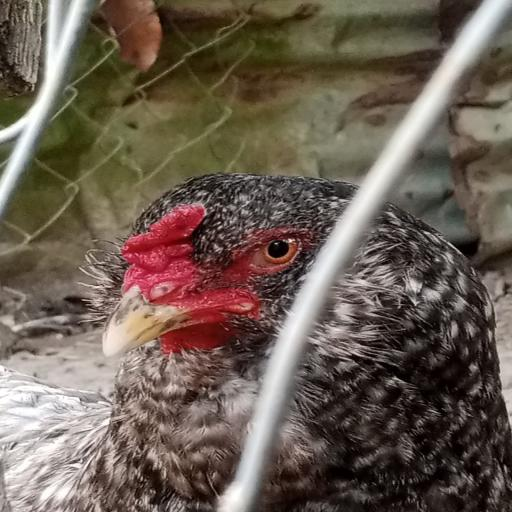disease: (120, 220, 206, 333)
